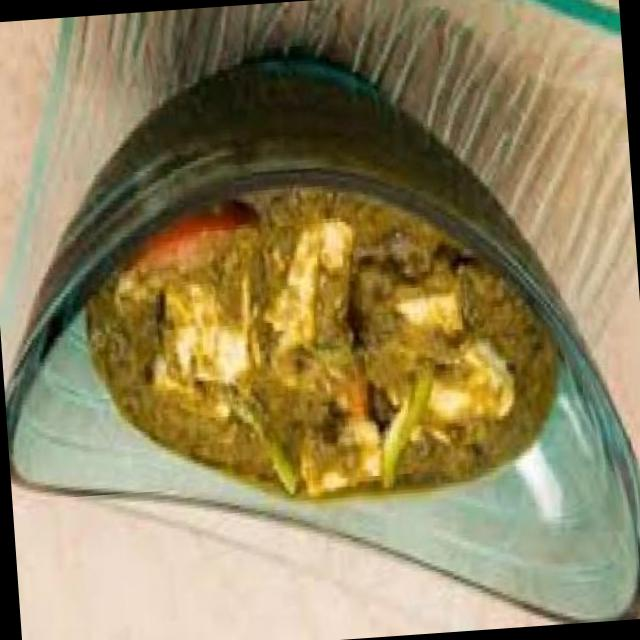palak_paneer: (78, 170, 562, 518)
